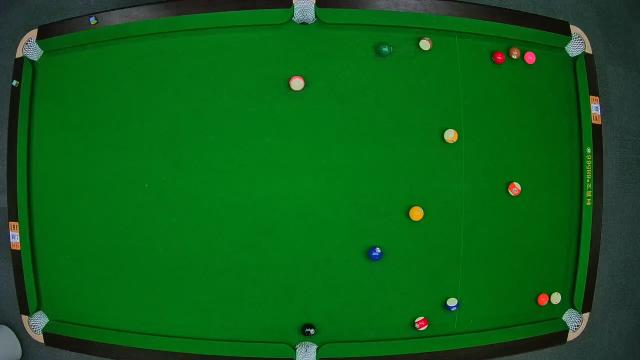bag1: (20, 40, 40, 61)
bag2: (292, 1, 316, 25)
bag3: (566, 35, 588, 55)
bag4: (28, 311, 48, 333)
bag5: (293, 340, 319, 360)
bag6: (562, 308, 582, 332)
ball0: (550, 293, 564, 305)
ball1: (409, 205, 425, 221)
ball10: (444, 296, 460, 312)
ball11: (413, 316, 431, 332)
ball12: (288, 74, 304, 92)
ball13: (506, 180, 522, 196)
ball15: (418, 36, 434, 52)
ball2: (368, 246, 384, 262)
ball3: (492, 51, 506, 65)
ball4: (524, 51, 536, 65)
ball5: (536, 294, 548, 307)
ball6: (375, 41, 393, 57)
ball7: (508, 45, 522, 59)
ball8: (301, 322, 317, 338)
ball9: (444, 129, 461, 145)
